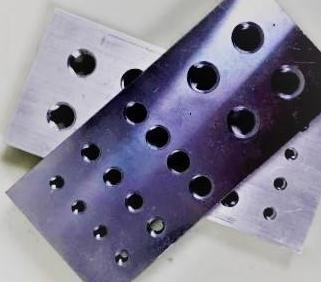hole: (184, 55, 225, 97), (228, 19, 267, 61), (219, 104, 262, 142), (268, 62, 304, 106), (40, 100, 78, 134), (67, 48, 102, 82), (183, 171, 221, 200), (163, 148, 197, 177), (122, 99, 150, 130), (143, 124, 172, 152), (100, 165, 128, 189), (80, 143, 104, 166), (146, 216, 170, 239), (45, 172, 70, 194), (124, 191, 146, 214), (67, 196, 89, 218), (112, 248, 132, 270), (90, 224, 110, 243), (260, 204, 278, 222), (272, 174, 288, 192), (284, 146, 299, 162)
